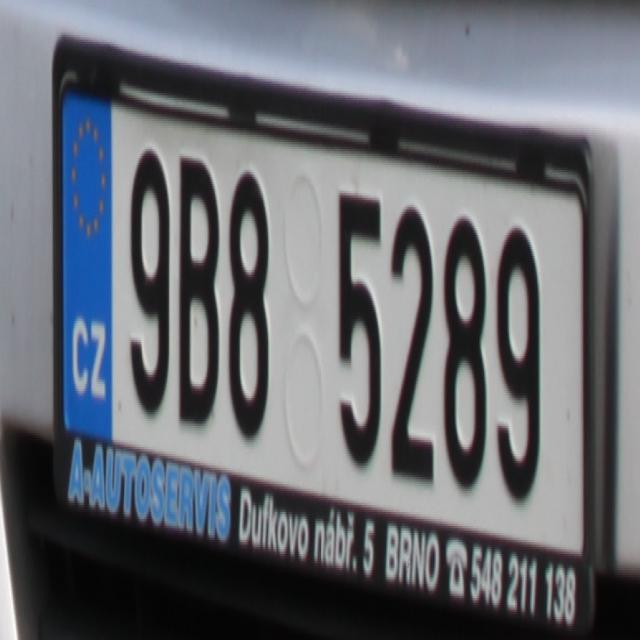2: (388, 202, 436, 496)
5: (336, 179, 384, 470)
8: (441, 209, 488, 489), (224, 170, 272, 430)
9: (496, 221, 544, 507), (129, 142, 172, 405)
B: (175, 151, 222, 433)
